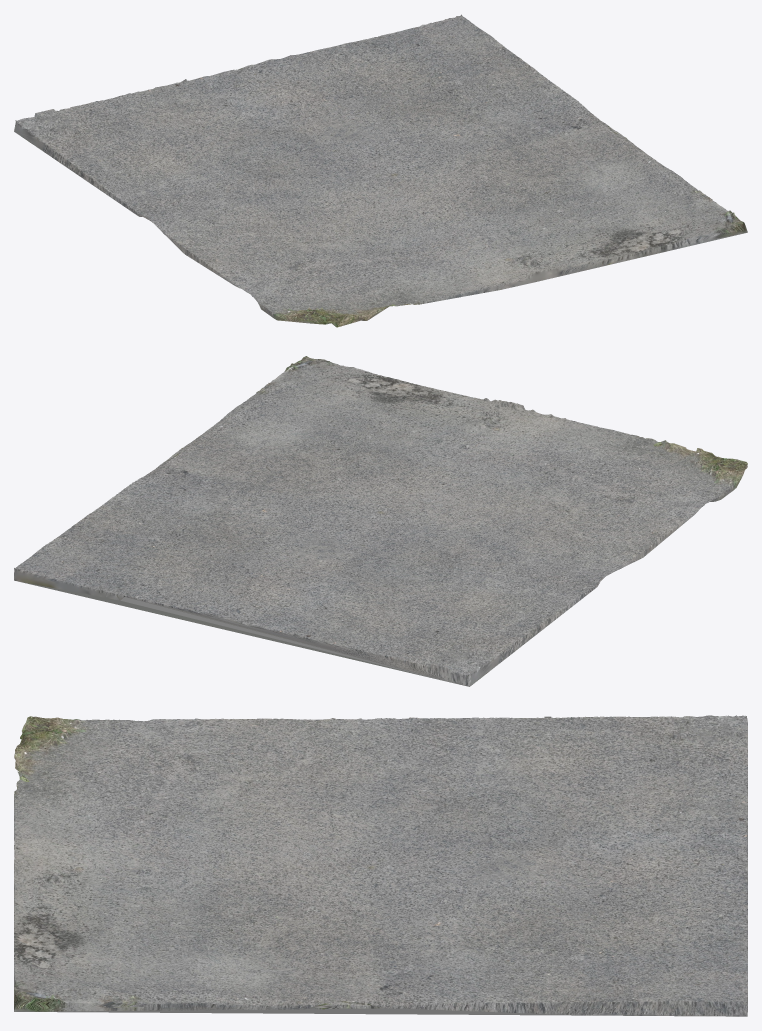
File: sf-grass-asphalt-ground-9e8f62.glb
3 renders of one model, top to bottom at view 1: azimuth 30°, elevation 25°; view 2: azimuth 150°, elevation 25°; view 3: azimuth 270°, elevation 25°, orthographic. The views are drawn at different scales.
Visible parts, largest first — view 1: grass-asphalt_grass-asphalt_u2_v1_0, grass-asphalt_grass-asphalt_u1_v2_0, grass-asphalt_grass-asphalt_u1_v1_0; view 2: grass-asphalt_grass-asphalt_u2_v1_0, grass-asphalt_grass-asphalt_u1_v2_0, grass-asphalt_grass-asphalt_u1_v1_0; view 3: grass-asphalt_grass-asphalt_u2_v1_0, grass-asphalt_grass-asphalt_u1_v2_0, grass-asphalt_grass-asphalt_u1_v1_0.
Boxes of the visible parts, left/top/right/bottom form: grass-asphalt_grass-asphalt_u2_v1_0: left=23, top=20, right=617, bottom=323; grass-asphalt_grass-asphalt_u1_v2_0: left=21, top=50, right=745, bottom=304; grass-asphalt_grass-asphalt_u1_v1_0: left=14, top=14, right=747, bottom=327; grass-asphalt_grass-asphalt_u2_v1_0: left=20, top=420, right=743, bottom=686; grass-asphalt_grass-asphalt_u1_v2_0: left=159, top=357, right=713, bottom=685; grass-asphalt_grass-asphalt_u1_v1_0: left=14, top=356, right=747, bottom=686; grass-asphalt_grass-asphalt_u2_v1_0: left=14, top=715, right=747, bottom=1011; grass-asphalt_grass-asphalt_u1_v2_0: left=14, top=718, right=747, bottom=1015; grass-asphalt_grass-asphalt_u1_v1_0: left=14, top=715, right=747, bottom=1016.
Size of the model in its own units: 34.56 by 1.37 by 38.2.
Materials: 3 (3 with a texture image).
